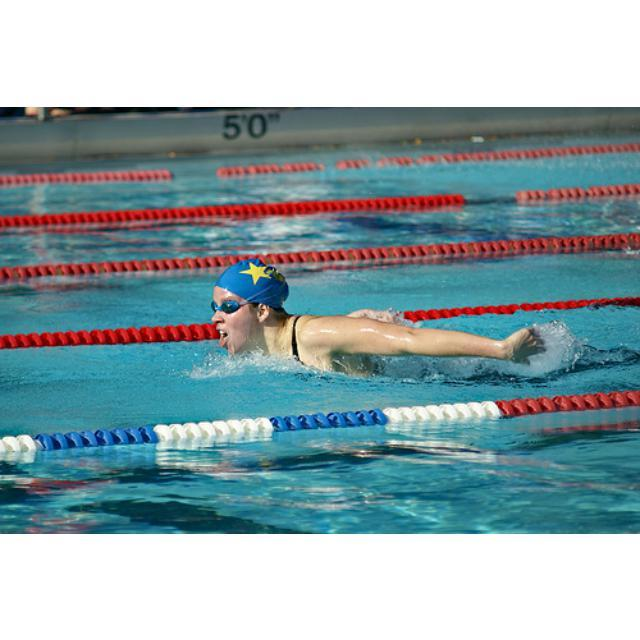human: (207, 254, 560, 382)
